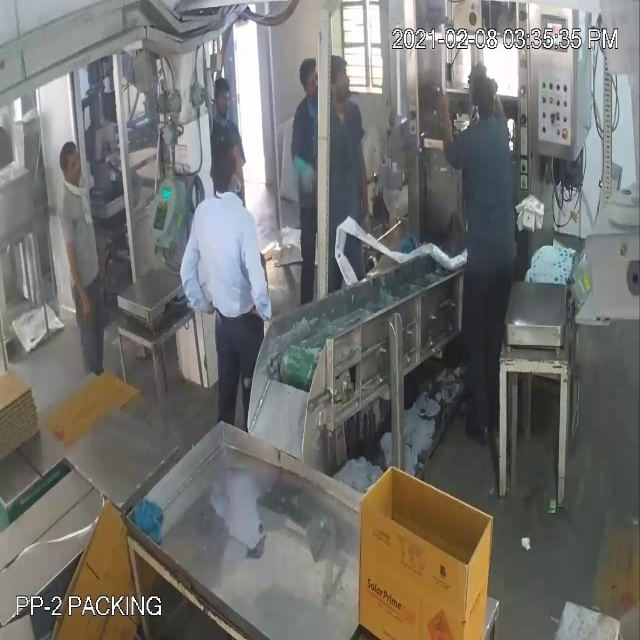Guantes: (290, 148, 317, 198)
Sin_guantes: (54, 218, 97, 322), (243, 236, 279, 342), (435, 82, 468, 182), (181, 235, 215, 321), (354, 137, 380, 237)
